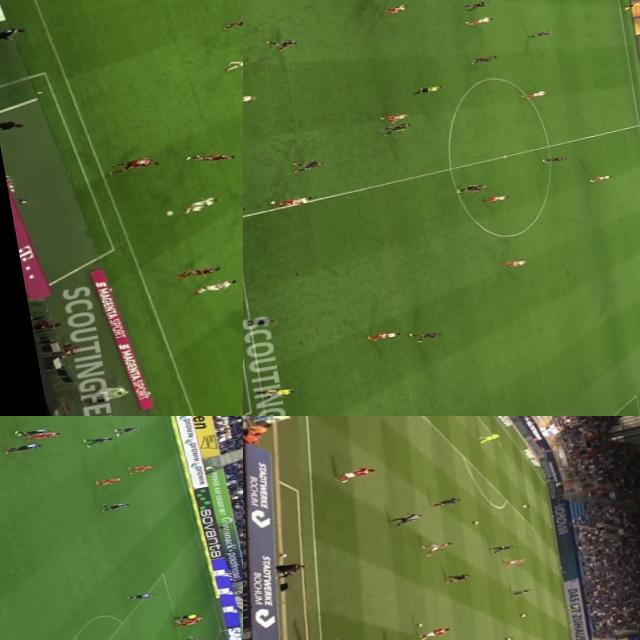ball: (160, 207, 180, 218), (266, 198, 280, 205), (417, 620, 426, 626), (471, 518, 480, 524), (504, 636, 512, 640), (520, 612, 526, 616)
player: (109, 153, 161, 175), (189, 148, 234, 166), (193, 278, 240, 294), (337, 464, 378, 482), (181, 263, 224, 278), (290, 156, 329, 172), (273, 194, 316, 208), (185, 193, 220, 210), (4, 440, 43, 454), (12, 424, 50, 438), (389, 511, 422, 527), (409, 328, 444, 343), (84, 432, 116, 448), (418, 624, 450, 640), (28, 428, 64, 442), (381, 120, 411, 136), (270, 36, 300, 51), (93, 474, 128, 486), (378, 110, 410, 123), (423, 540, 452, 554), (469, 52, 498, 65), (478, 192, 509, 204), (500, 256, 530, 268), (454, 181, 486, 192), (111, 424, 140, 436), (174, 614, 203, 626), (125, 590, 156, 601), (382, 2, 410, 14), (368, 330, 400, 340), (444, 572, 470, 584), (524, 87, 547, 100), (100, 500, 128, 510), (590, 170, 613, 182), (129, 462, 154, 473), (434, 496, 461, 506), (229, 53, 243, 72), (468, 15, 492, 26), (463, 0, 490, 9), (538, 154, 568, 162), (226, 15, 243, 29), (489, 543, 512, 553), (505, 555, 528, 565), (530, 28, 552, 38), (171, 618, 197, 626), (480, 432, 500, 441), (243, 92, 256, 105), (512, 587, 532, 594), (182, 633, 201, 640)
